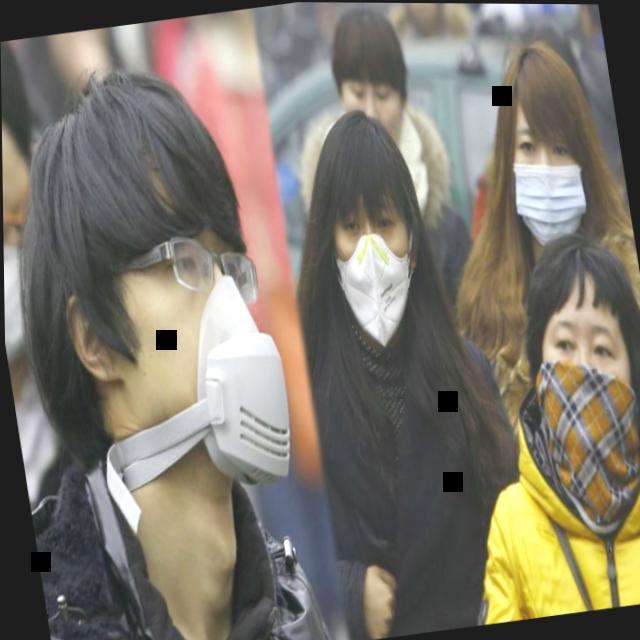Mask: (0, 35, 326, 551), (499, 219, 640, 550), (298, 96, 449, 361), (478, 27, 616, 262), (0, 37, 80, 372)
NO-Mask: (323, 2, 422, 159)
